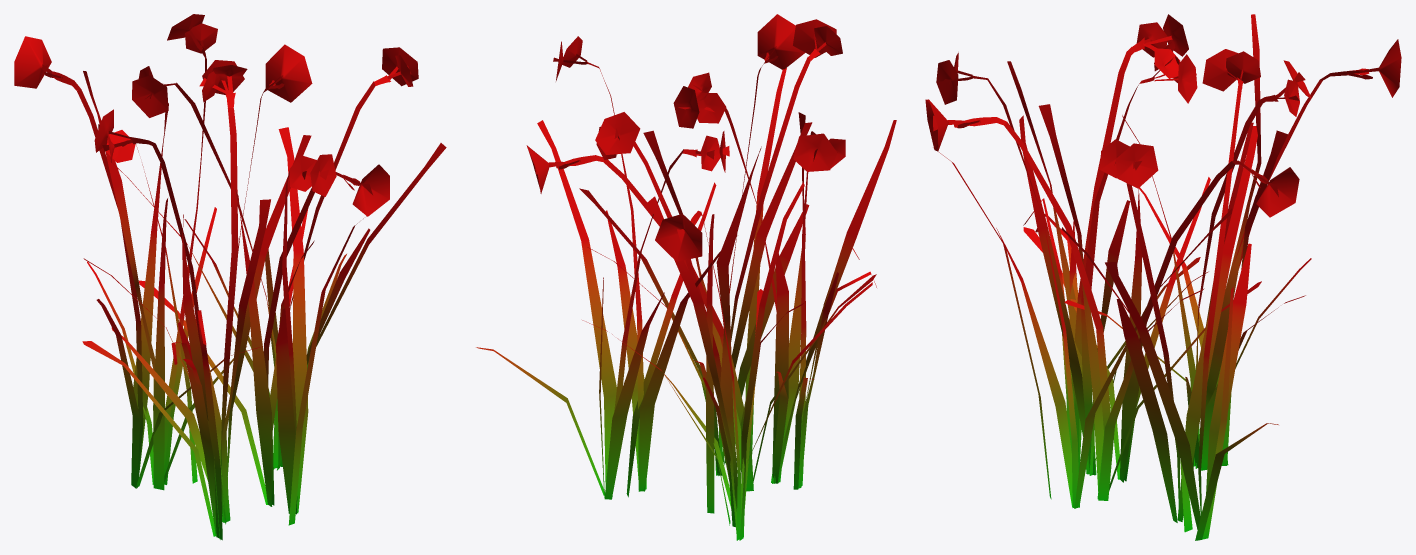
Rendered from Rush Daffodil_LOD5_Var3_wftgfjaia.fbx.
The picture shows the model from 3 angles, left to right: view 1: azimuth 30°, elevation 25°; view 2: azimuth 150°, elevation 25°; view 3: azimuth 270°, elevation 25°; orthographic projection. The views are drawn at different scales.
Visible parts, largest first — view 1: _9dsw_var3_LOD5; view 2: _9dsw_var3_LOD5; view 3: _9dsw_var3_LOD5.
Part boxes in pixels (x1,y1,x2,y2): _9dsw_var3_LOD5: (14,14,446,540); _9dsw_var3_LOD5: (476,14,896,540); _9dsw_var3_LOD5: (925,14,1401,540).
Size of the model in its own units: 29.58 by 35.91 by 34.23.
